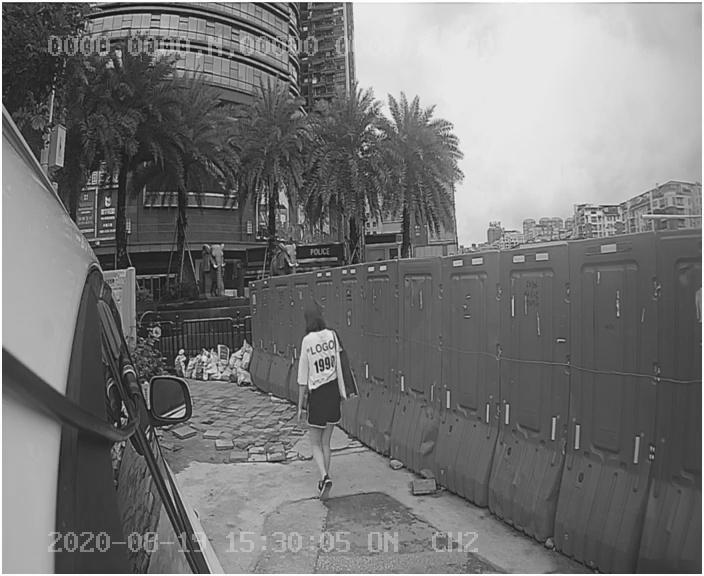person: (277, 302, 370, 502)
